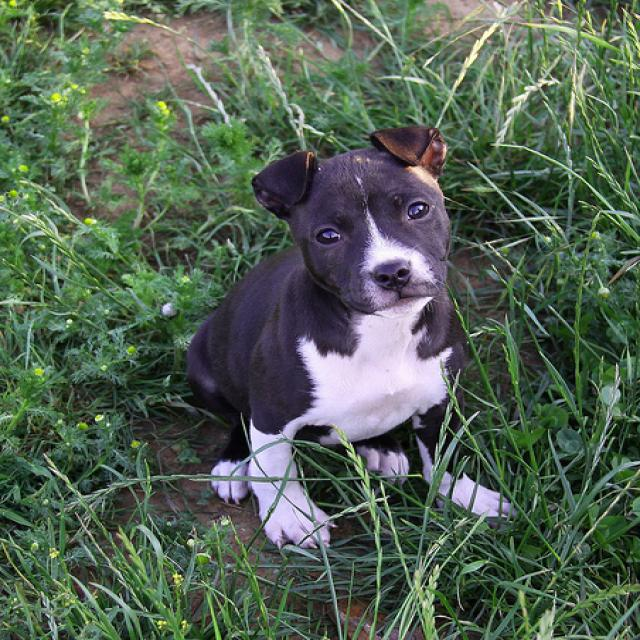dog-staffordshire_bull_terrier: (173, 118, 530, 562)
